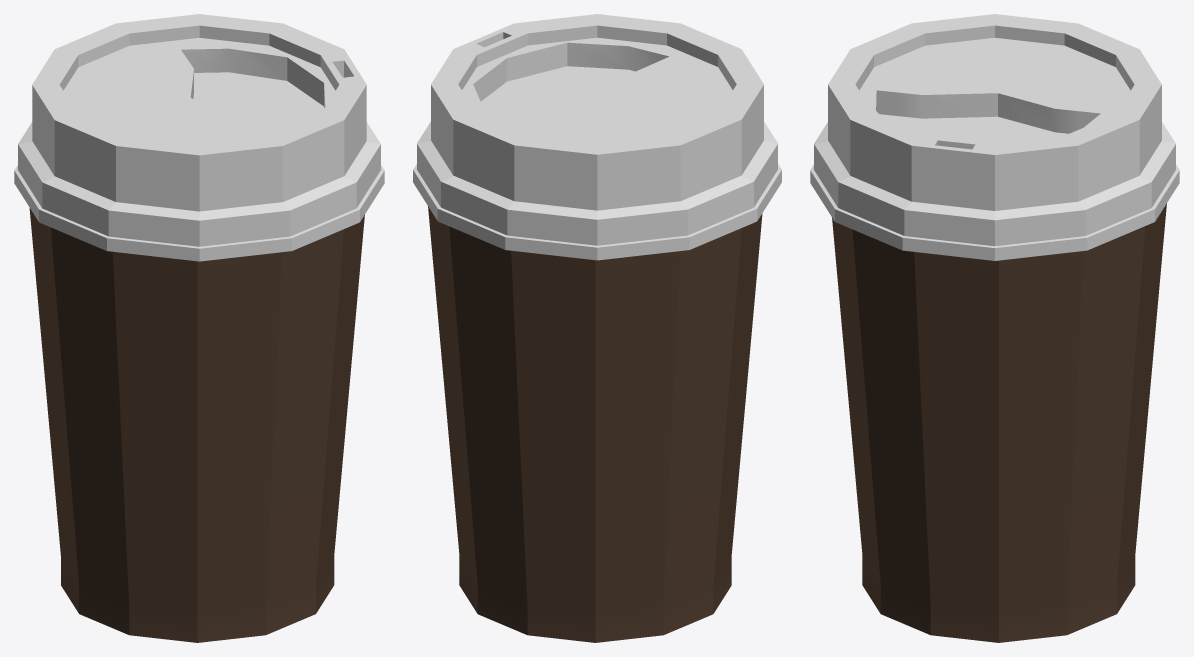
Rendered from Low Poly Coffee Cup.fbx.
3 views of the same model, side by side, from view 1: azimuth 30°, elevation 25°; view 2: azimuth 150°, elevation 25°; view 3: azimuth 270°, elevation 25° (orthographic).
Visible parts, largest first — view 1: polySurface2; view 2: polySurface2; view 3: polySurface2.
Boxes of the visible parts, x1,y1,x2,y2 form: polySurface2: (14, 14, 384, 642); polySurface2: (413, 14, 781, 642); polySurface2: (810, 14, 1179, 642).
Bounding box in the file's own units: 2.71 × 4.05 × 2.71.
